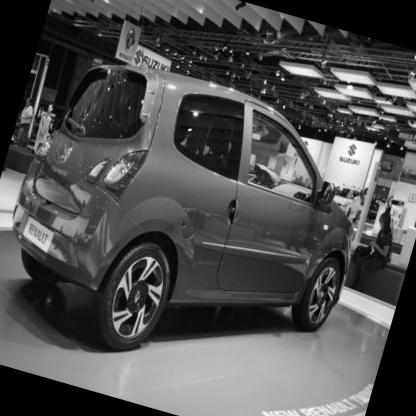car: (1, 18, 403, 406)
